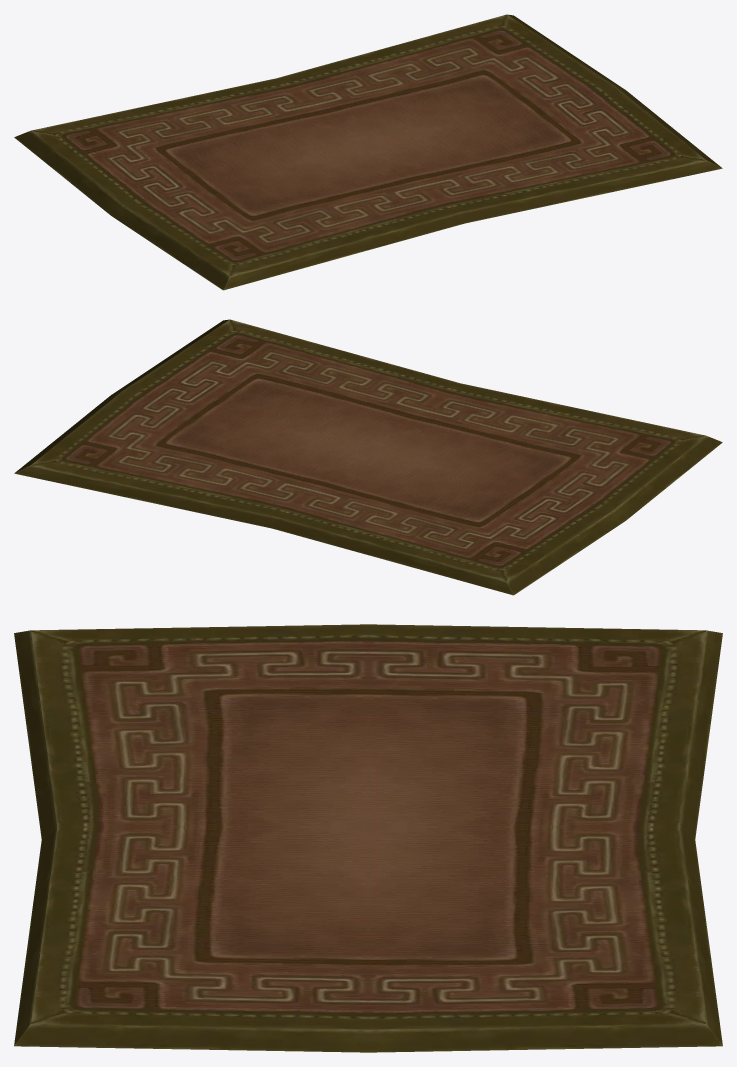
3 renders of one model, top to bottom at view 1: azimuth 30°, elevation 25°; view 2: azimuth 150°, elevation 25°; view 3: azimuth 270°, elevation 25°, orthographic. The views are drawn at different scales.
Size of the model in its own units: 9.79 by 0.1358 by 6.89.
Materials: 1 (1 with a texture image).
